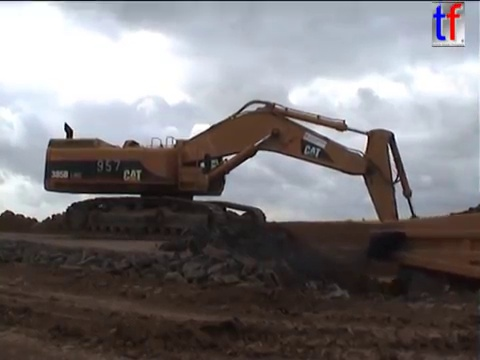excavator: (38, 94, 440, 307)
truck: (364, 207, 480, 288)
